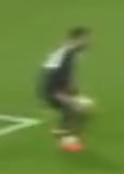goalkeeper: (32, 9, 124, 171)
